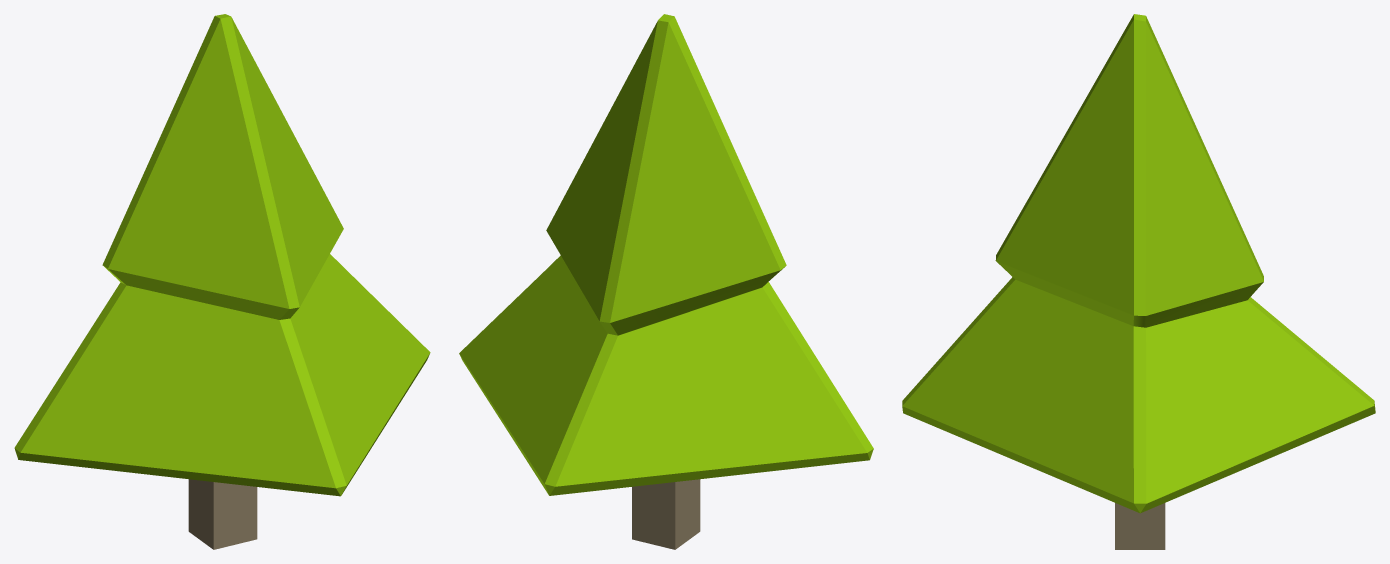
Rendered from pine_skewed_13_bevel.fbx.
The picture shows the model from 3 angles, left to right: view 1: azimuth 30°, elevation 25°; view 2: azimuth 150°, elevation 25°; view 3: azimuth 270°, elevation 25°; orthographic projection.
Visible parts, largest first — view 1: pine_skewed_13_bevel; view 2: pine_skewed_13_bevel; view 3: pine_skewed_13_bevel.
Boxes of the visible parts, left/top/right/bottom form: pine_skewed_13_bevel: left=14, top=14, right=430, bottom=549; pine_skewed_13_bevel: left=459, top=14, right=873, bottom=549; pine_skewed_13_bevel: left=902, top=14, right=1375, bottom=549.
Size of the model in its own units: 114 by 138 by 113.
